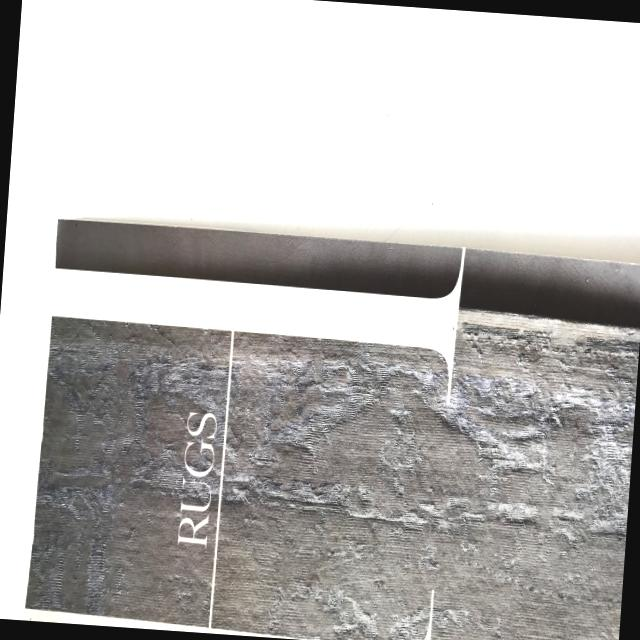Paper: (21, 200, 640, 640)
